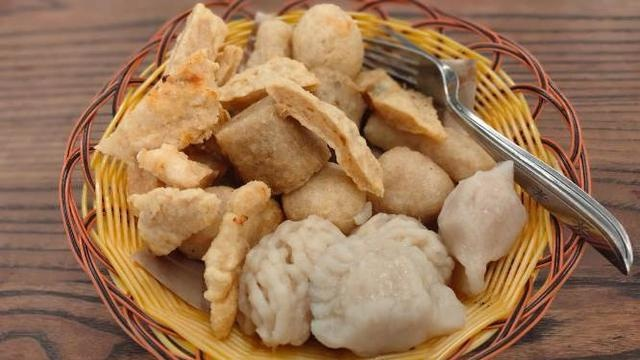pempek: (135, 35, 531, 349)
